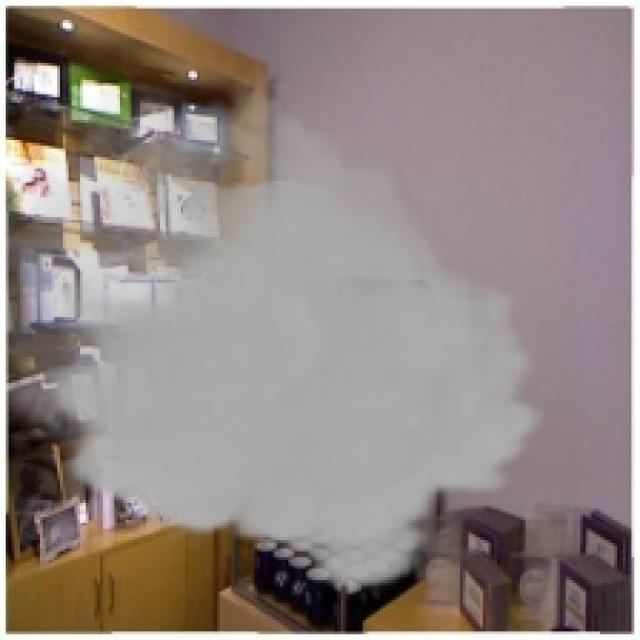smoke: (6, 66, 546, 594)
